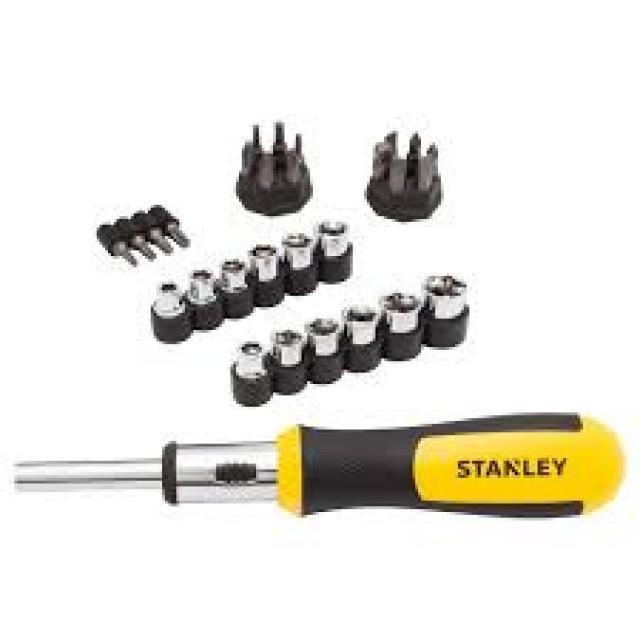screwdriver: (0, 401, 638, 538)
